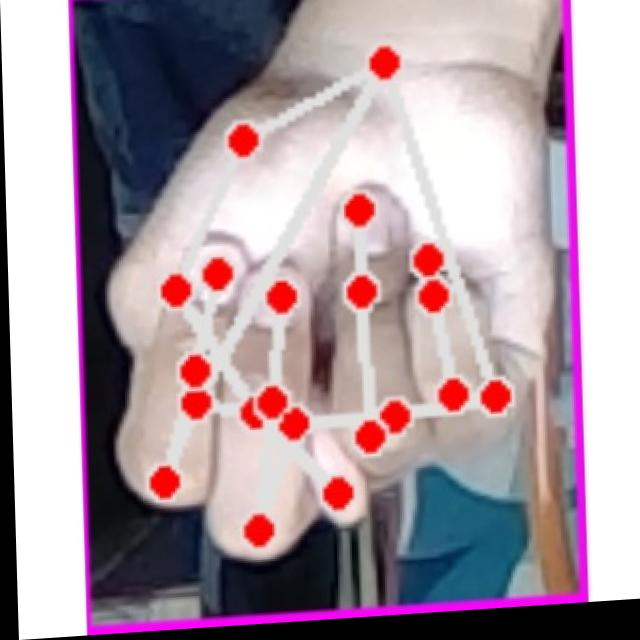N: (86, 13, 564, 592)
